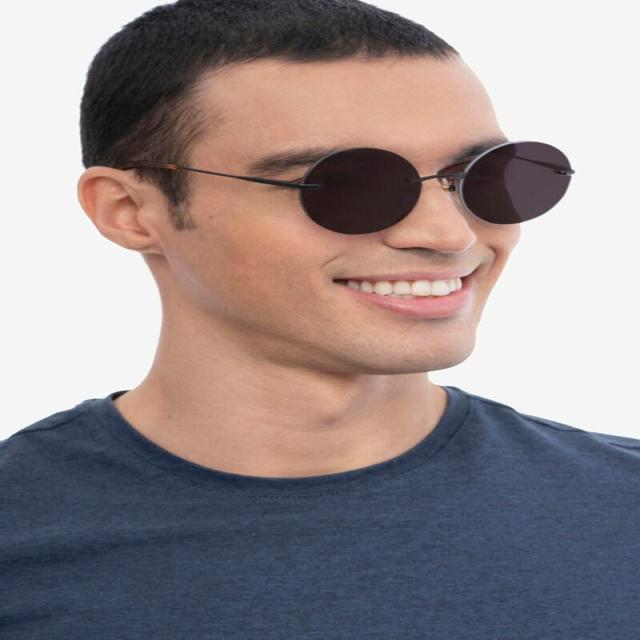2_gafas: (114, 139, 576, 235)
